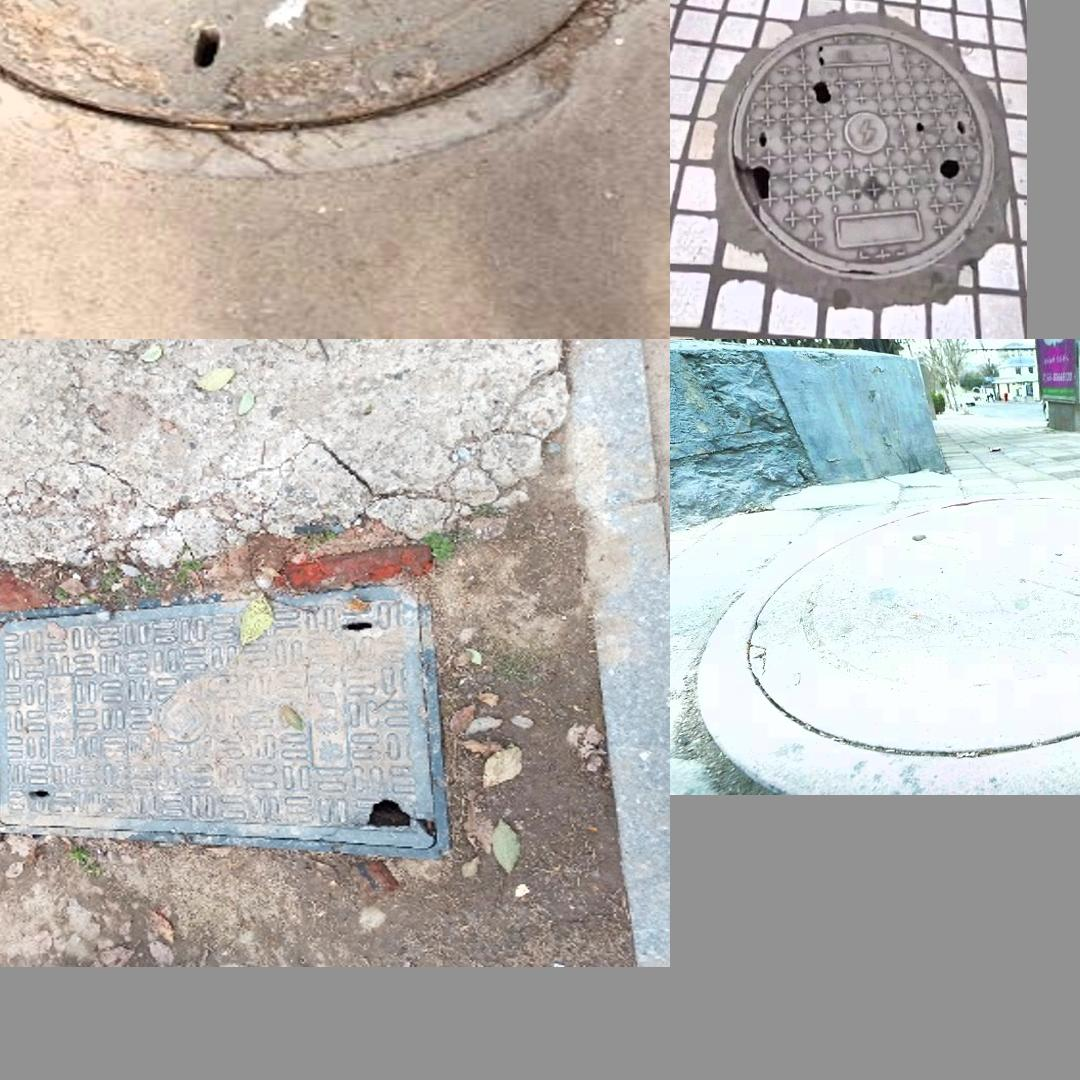broke: (0, 583, 452, 856), (0, 0, 658, 171), (745, 495, 1080, 757), (731, 29, 995, 281)
